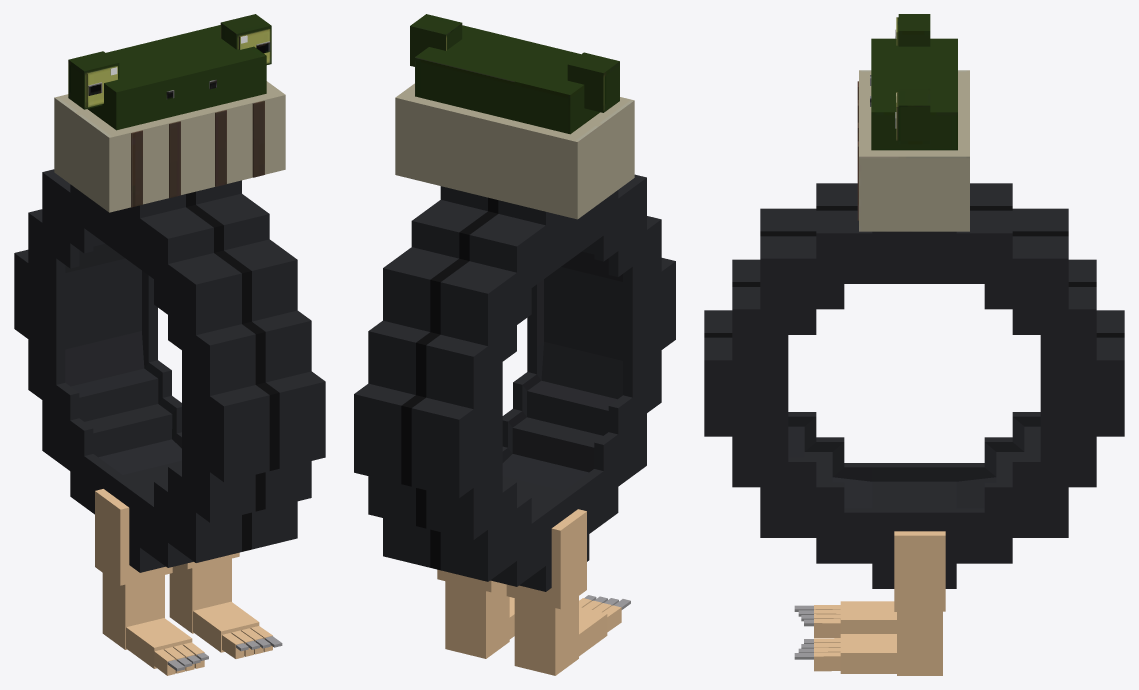
Rendered from bonecaAmbalabu.fbx.
3 renders of one model, left to right at view 1: azimuth 30°, elevation 25°; view 2: azimuth 150°, elevation 25°; view 3: azimuth 270°, elevation 25°, orthographic. The views are drawn at different scales.
Parts seen in each view (by area): view 1: bonecaAmbalabu; view 2: bonecaAmbalabu; view 3: bonecaAmbalabu.
Part boxes in pixels (x1,y1,x2,y2): bonecaAmbalabu: (14,14,325,675); bonecaAmbalabu: (354,14,675,675); bonecaAmbalabu: (704,14,1124,675).
Size of the model in its own units: 242 by 726 by 469.
